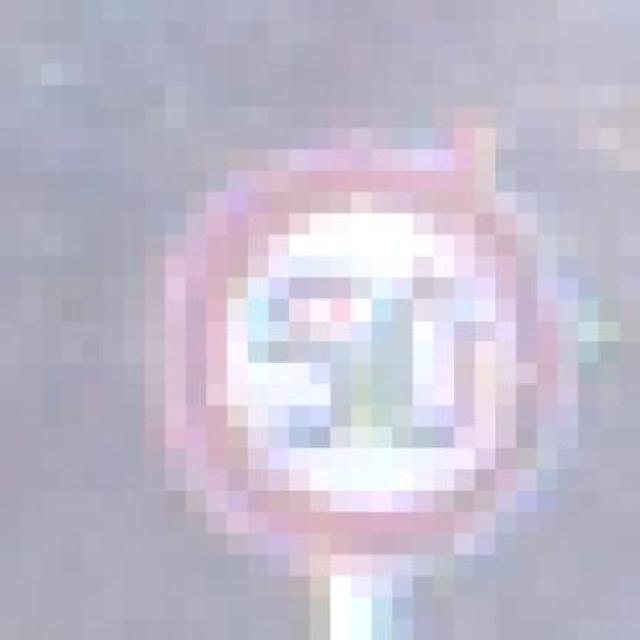forb_speed_over_50: (168, 163, 554, 560)
